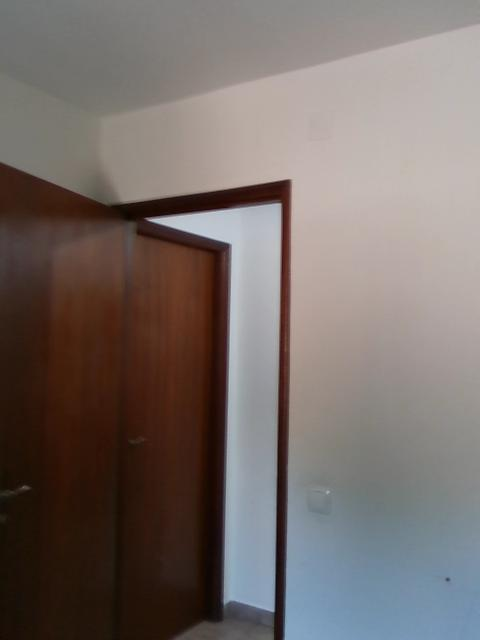open_door: (108, 177, 292, 638)
